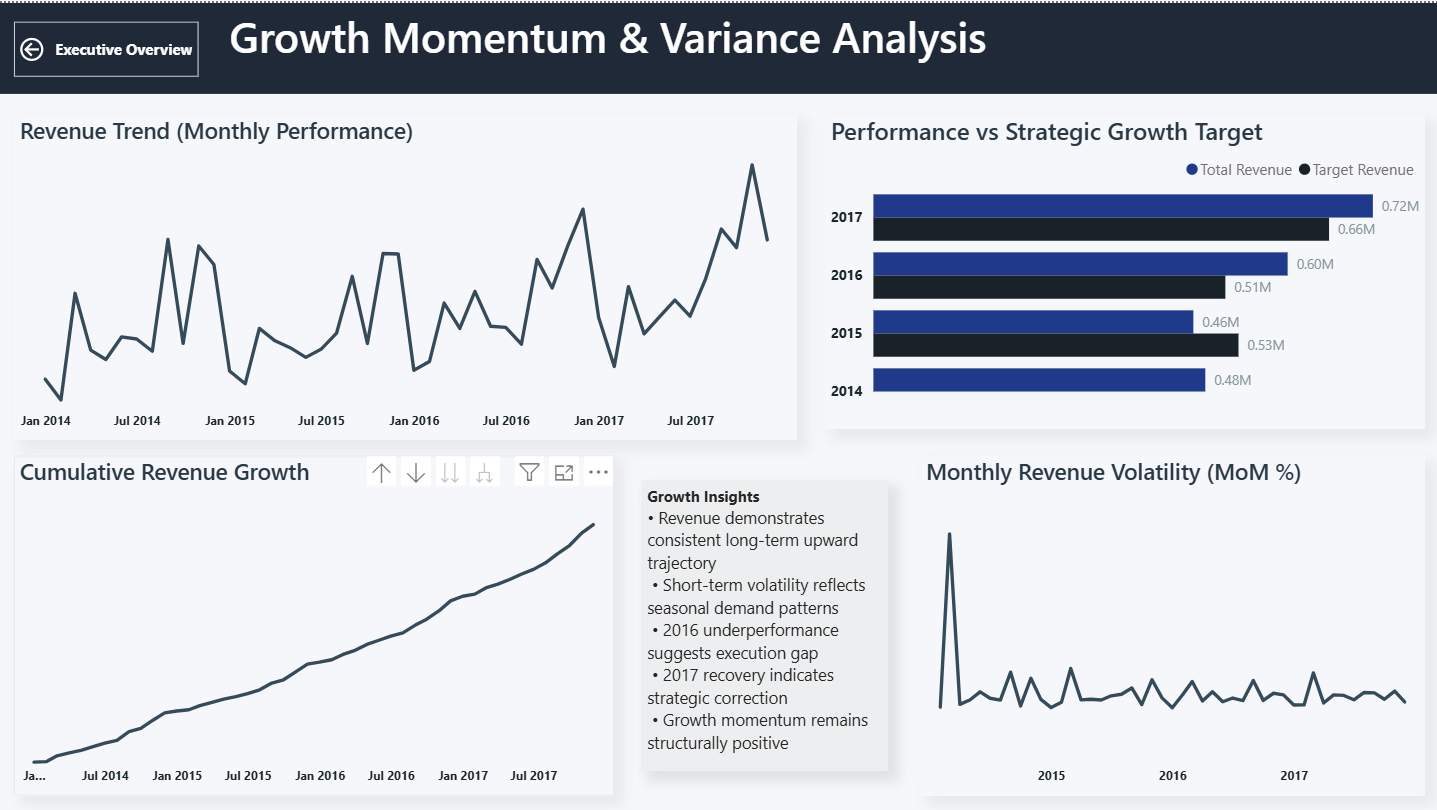

The dashboard page shown, as its layout file describes it:
{"tool":"powerbi","page":{"name":"Growth & Variance Analysis","canvas":[1280,720],"ordinal":4},"visuals":[{"type":"textbox","box":[0,0,1280,80.7],"z":0},{"type":"clusteredBarChart","title":"Performance vs Strategic Growth Target","fields":{"Y":["viualation table.Total Revenue","viualation table.Target Revenue"],"Category":["retail_analysis orders.order_date.Variation.Date Hierarchy.Year"]},"box":[734.9,99,533.2,280],"z":1000},{"type":"actionButton","box":[13.5,17.1,163.9,48.9],"z":2000},{"type":"textbox","box":[571.1,424.3,218.9,258],"z":3000},{"type":"lineChart","title":"Revenue Trend (Monthly Performance)","fields":{"Y":["viualation table.Total Revenue"],"Category":["retail_analysis orders.order_date.Variation.Date Hierarchy.Year","retail_analysis orders.order_date.Variation.Date Hierarchy.Month"]},"box":[13.5,99,695.8,289.8],"z":4000},{"type":"lineChart","title":"Cumulative Revenue Growth","fields":{"Category":["retail_analysis orders.order_date.Variation.Date Hierarchy.Year","retail_analysis orders.order_date.Variation.Date Hierarchy.Month"],"Y":["viualation table.Running Total Revenue"]},"box":[13.5,402.3,533.2,302],"z":5000},{"type":"lineChart","title":"Monthly Revenue Volatility (MoM %)","fields":{"Y":["viualation table.MoM Growth %"],"Category":["retail_analysis orders.order_date.Variation.Date Hierarchy.Year","retail_analysis orders.order_date.Variation.Date Hierarchy.Month"]},"box":[819.3,402.3,448.8,302],"z":6000}]}

Visuals, with their boxes in screenshot pixels (x1, y1, x2, y2), scaled from the page's 1280x720 canvas onto the 1437x810 screenshot:
textbox: Rect(0, 0, 1436, 91)
"Performance vs Strategic Growth Target" clusteredBarChart: Rect(825, 111, 1424, 426)
actionButton: Rect(15, 19, 199, 74)
textbox: Rect(641, 477, 887, 768)
"Revenue Trend (Monthly Performance)" lineChart: Rect(15, 111, 796, 437)
"Cumulative Revenue Growth" lineChart: Rect(15, 453, 614, 792)
"Monthly Revenue Volatility (MoM %)" lineChart: Rect(920, 453, 1424, 792)
